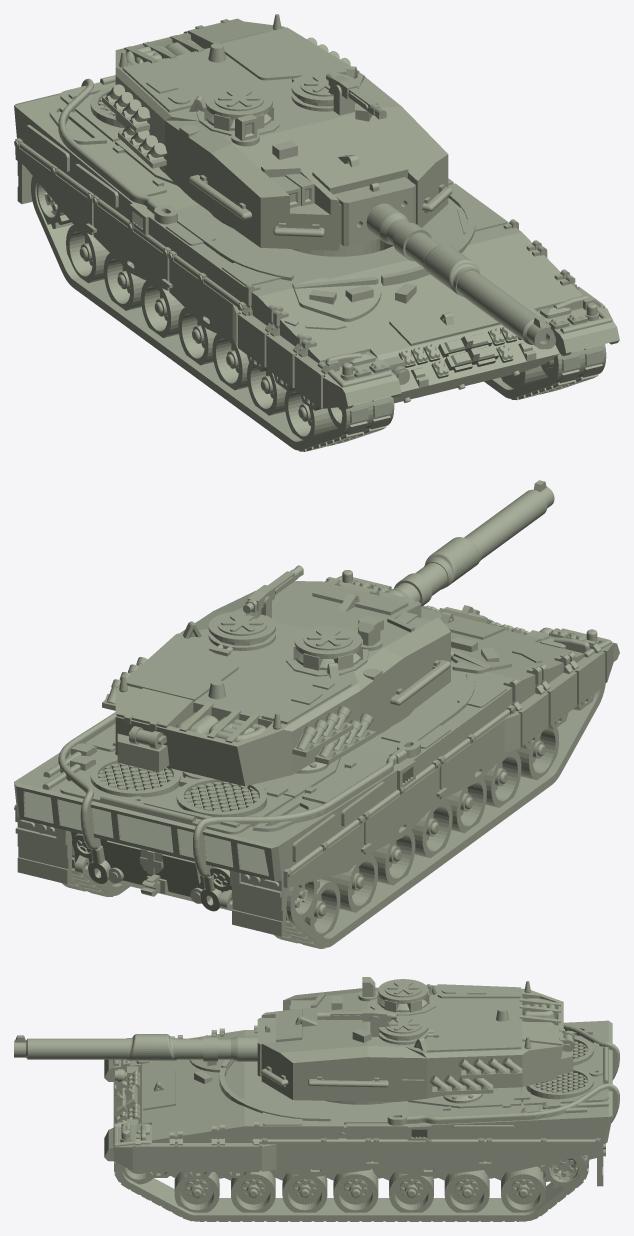
File: leo2a4_bergman.glb
3 views of the same model, one above another, from view 1: azimuth 30°, elevation 25°; view 2: azimuth 150°, elevation 25°; view 3: azimuth 270°, elevation 25° (orthographic). The views are drawn at different scales.
Visible parts, largest first — view 1: HullMesh, TurretMesh; view 2: HullMesh, TurretMesh; view 3: HullMesh, TurretMesh.
Boxes of the visible parts, x1,y1,x2,y2 form: HullMesh: (14, 75, 619, 451); TurretMesh: (102, 14, 554, 349); HullMesh: (14, 570, 619, 948); TurretMesh: (102, 480, 554, 786); HullMesh: (104, 1020, 619, 1221); TurretMesh: (14, 977, 574, 1104).
Bounding box in the file's own units: 3.7 × 2.99 × 9.15.
